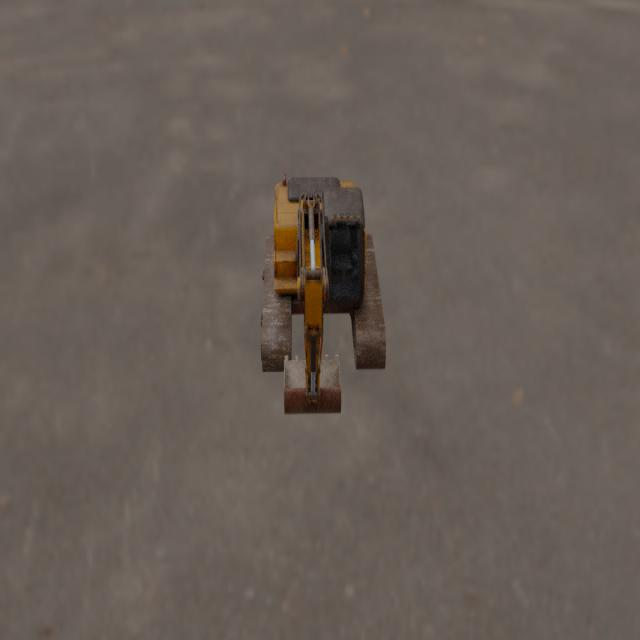excavator: (260, 172, 386, 415)
